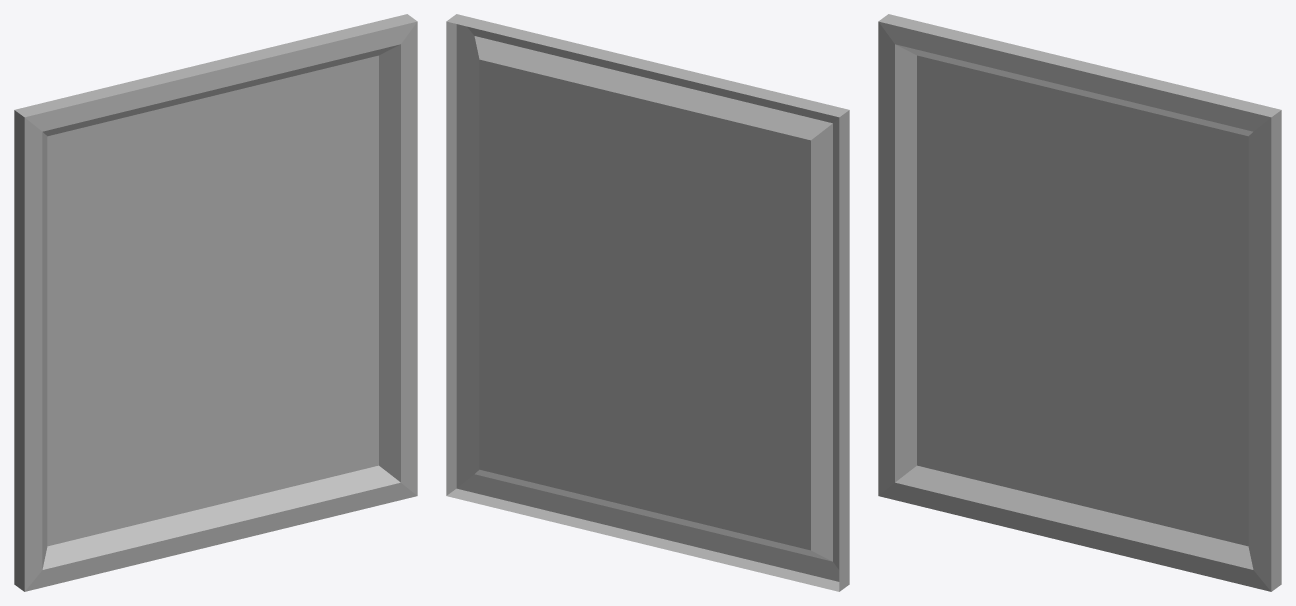
Rendered from KF_SM_Panel1.fbx.
3 views of the same model, side by side, from view 1: azimuth 30°, elevation 25°; view 2: azimuth 150°, elevation 25°; view 3: azimuth 330°, elevation 25° (orthographic).
Parts seen in each view (by area): view 1: KF_SM_Panel1; view 2: KF_SM_Panel1; view 3: KF_SM_Panel1.
Boxes of the visible parts, x1,y1,x2,y2 form: KF_SM_Panel1: (14, 14, 417, 591); KF_SM_Panel1: (446, 14, 849, 591); KF_SM_Panel1: (878, 14, 1281, 591).
Size of the model in its own units: 171 by 198 by 8.19.
